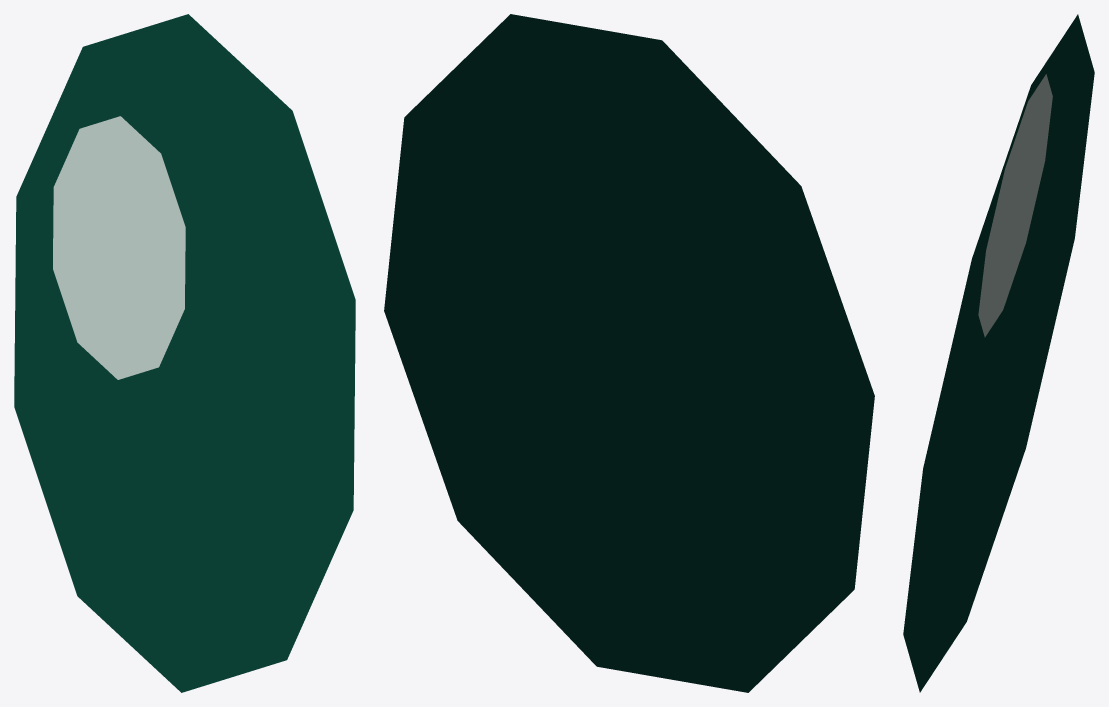
File: scareCrowPupiGreenLeft.glb
3 views of the same model, side by side, from view 1: azimuth 30°, elevation 25°; view 2: azimuth 150°, elevation 25°; view 3: azimuth 270°, elevation 25° (orthographic). The views are drawn at different scales.
Visible parts, largest first — view 1: scareCrowPupiGreenLeft; view 2: scareCrowPupiGreenLeft; view 3: scareCrowPupiGreenLeft.
Boxes of the visible parts, bbox=[...] form: scareCrowPupiGreenLeft: bbox=[14, 14, 355, 692]; scareCrowPupiGreenLeft: bbox=[384, 14, 874, 692]; scareCrowPupiGreenLeft: bbox=[903, 14, 1094, 692].
Bounding box in the file's own units: 0.0319 × 0.0488 × 0.0138.
